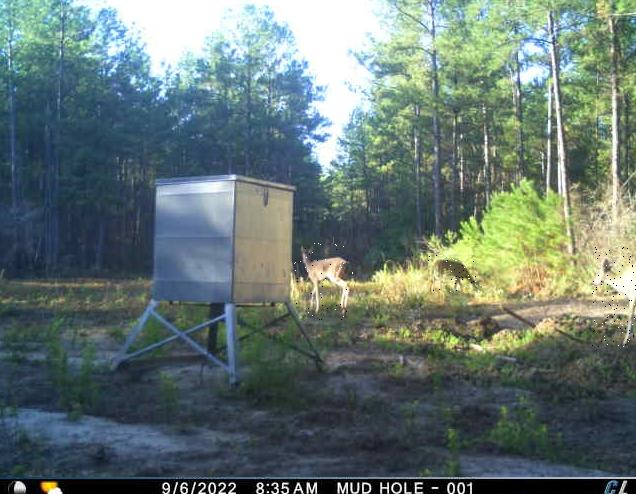Deer: (294, 244, 356, 321), (590, 247, 636, 347), (429, 256, 477, 293)
